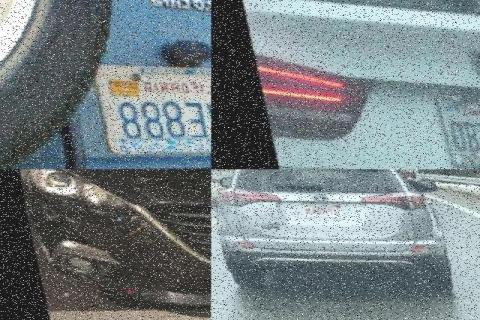LicensePlate: (100, 64, 212, 148), (428, 86, 480, 170), (292, 200, 337, 216)
